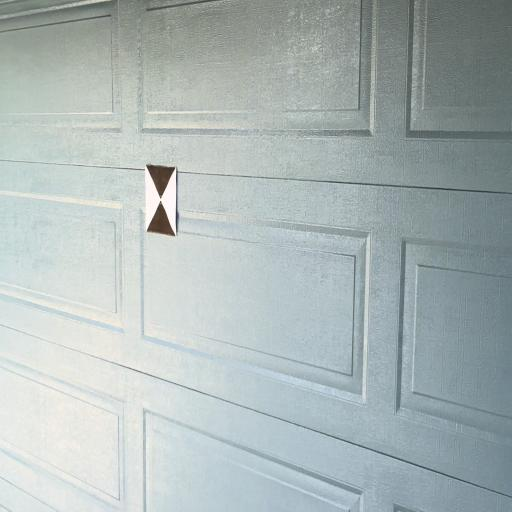target: (144, 164, 178, 236)
